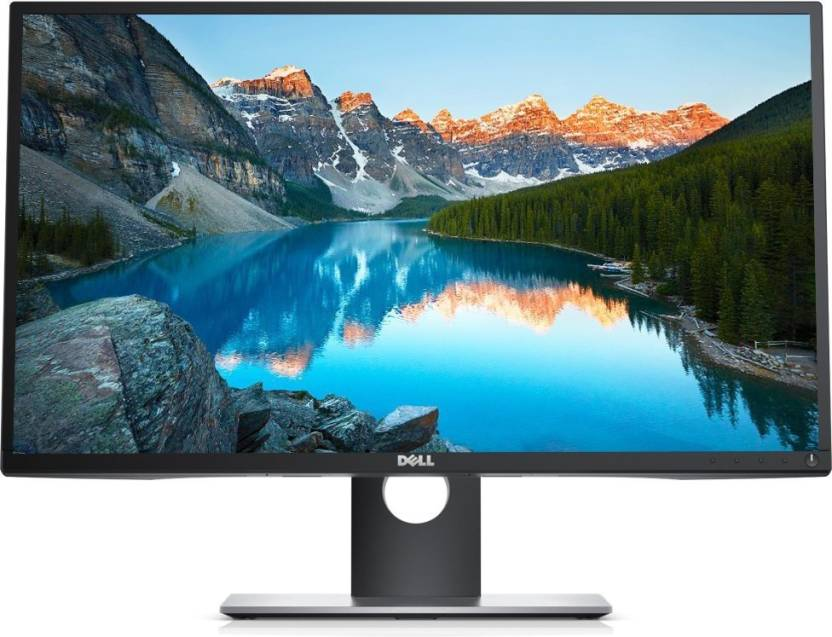dell-monitor-D1918H: (1, 4, 826, 628)
